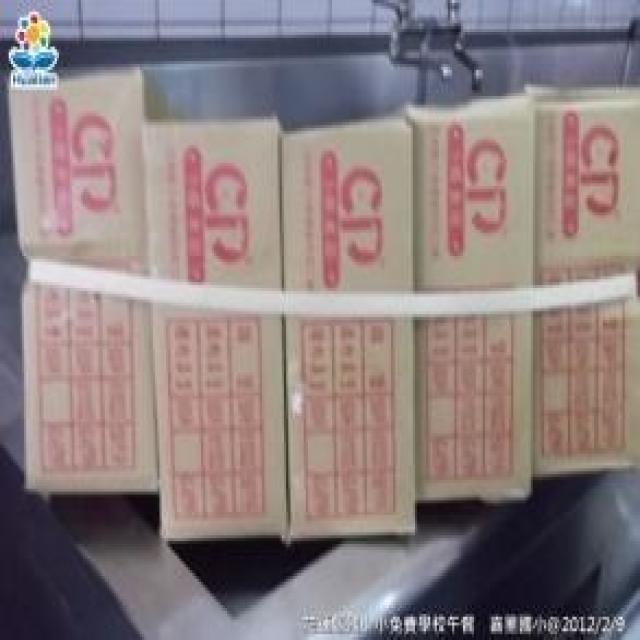box: (9, 67, 160, 495), (148, 115, 291, 543), (285, 115, 415, 540), (407, 89, 535, 505), (525, 82, 638, 476)
